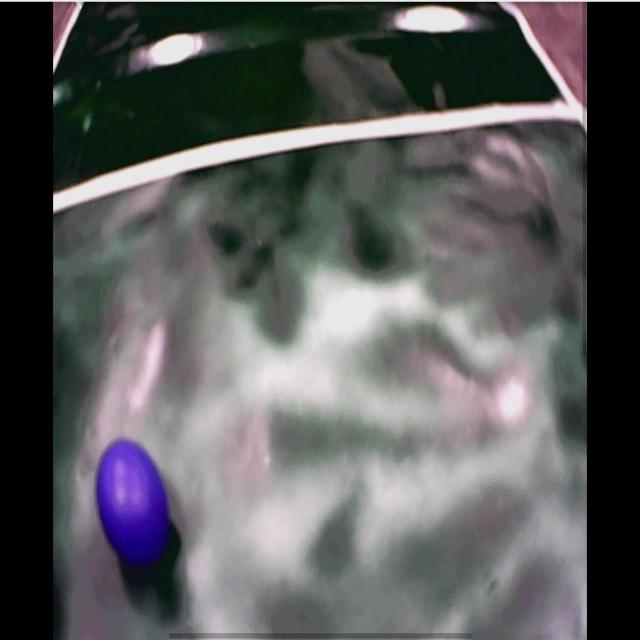ball: (97, 439, 171, 559)
